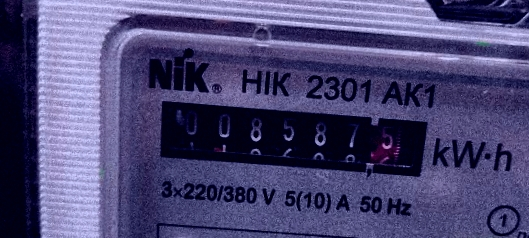0: (180, 106, 200, 137), (214, 110, 234, 139)
5: (278, 114, 297, 144), (378, 123, 397, 153)
7: (342, 119, 361, 150)
8: (310, 117, 329, 148), (246, 114, 264, 143)
screen: (138, 83, 446, 191)
